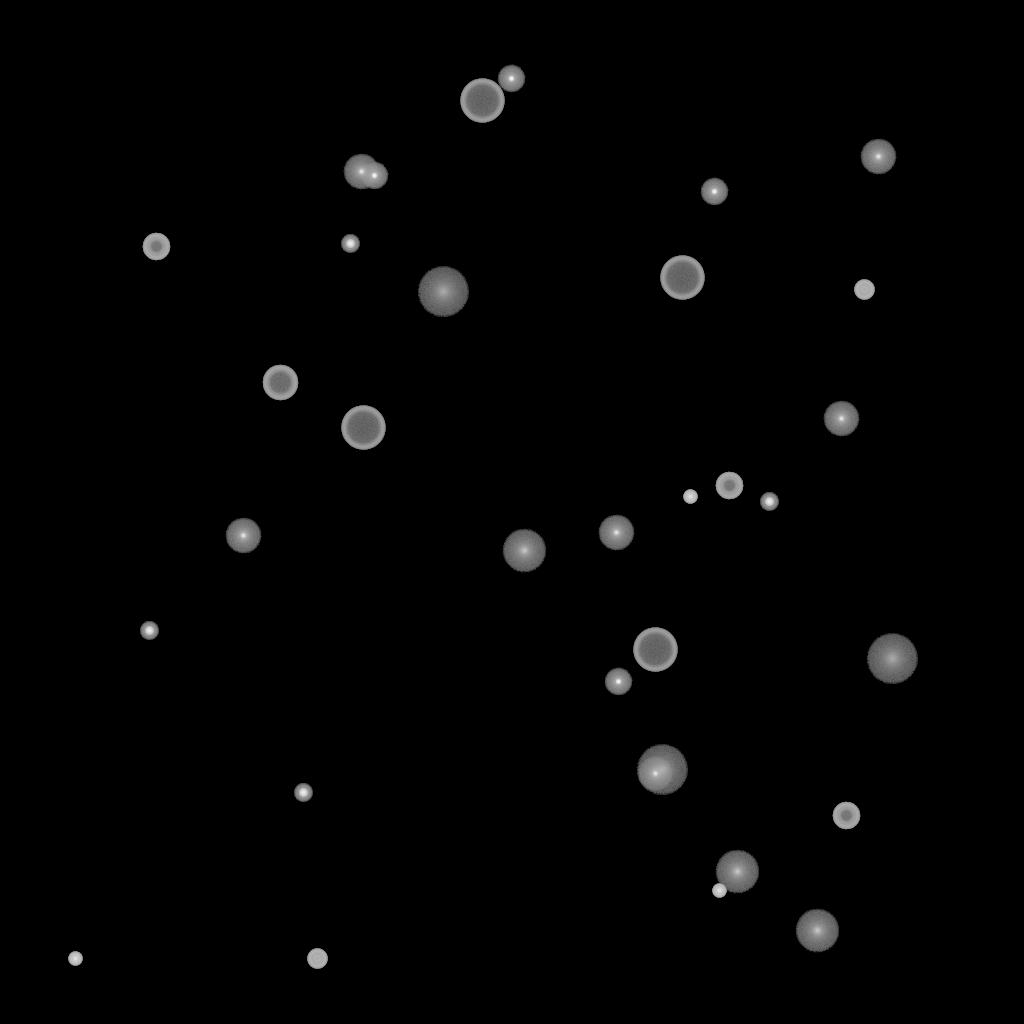depth:-10: (700, 178, 728, 206), (360, 162, 388, 190), (604, 668, 632, 696), (497, 65, 525, 93)
depth:-20: (140, 622, 158, 640), (341, 235, 359, 253), (760, 493, 778, 511), (294, 784, 312, 802)
depth:-30: (68, 952, 82, 966), (712, 884, 726, 898), (683, 490, 697, 504)
depth:-40: (854, 280, 874, 300), (307, 949, 327, 969)
depth:-50: (715, 472, 743, 500), (832, 802, 860, 830), (142, 233, 170, 261)
depth:-60: (262, 365, 298, 401)
depth:-70: (660, 256, 704, 300), (460, 79, 504, 123), (341, 406, 385, 450), (633, 628, 677, 672)
depth:0: (598, 515, 634, 551), (343, 154, 379, 190), (860, 139, 896, 175), (225, 518, 261, 554), (637, 756, 673, 792), (823, 401, 859, 437)
depth:10: (795, 909, 839, 953), (715, 850, 759, 894), (502, 529, 546, 573)
depth:20: (636, 745, 688, 795), (417, 267, 469, 317), (866, 634, 918, 684)
